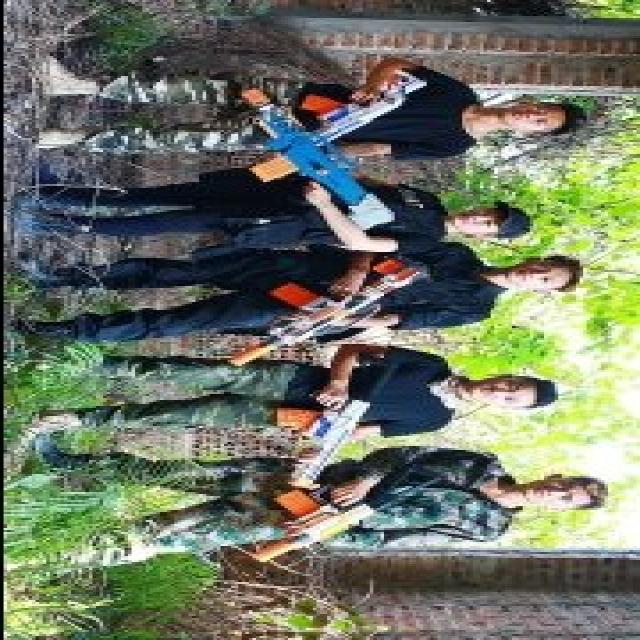Nerf gun: (224, 253, 437, 371), (245, 76, 395, 236), (251, 67, 432, 181), (256, 464, 455, 560), (276, 386, 378, 490)
